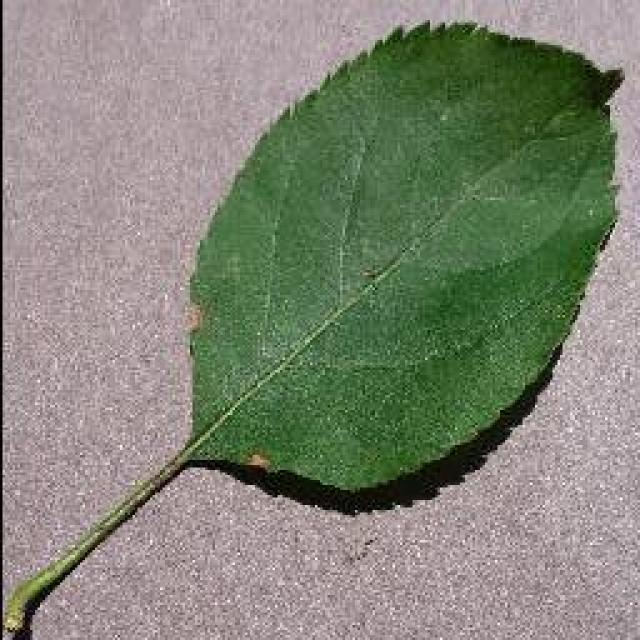Apple___Black_rot: (185, 18, 628, 496)
